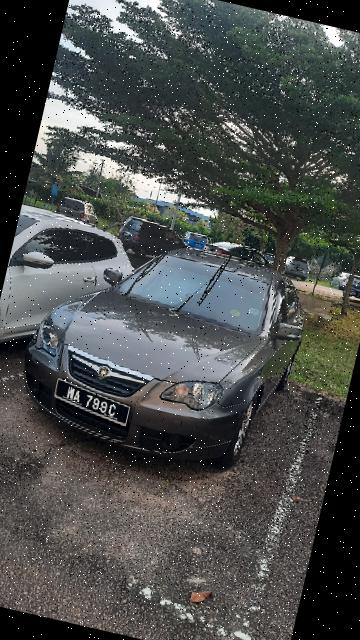License_Plate: (48, 376, 139, 432)
car: (9, 214, 322, 489), (1, 201, 156, 375)
